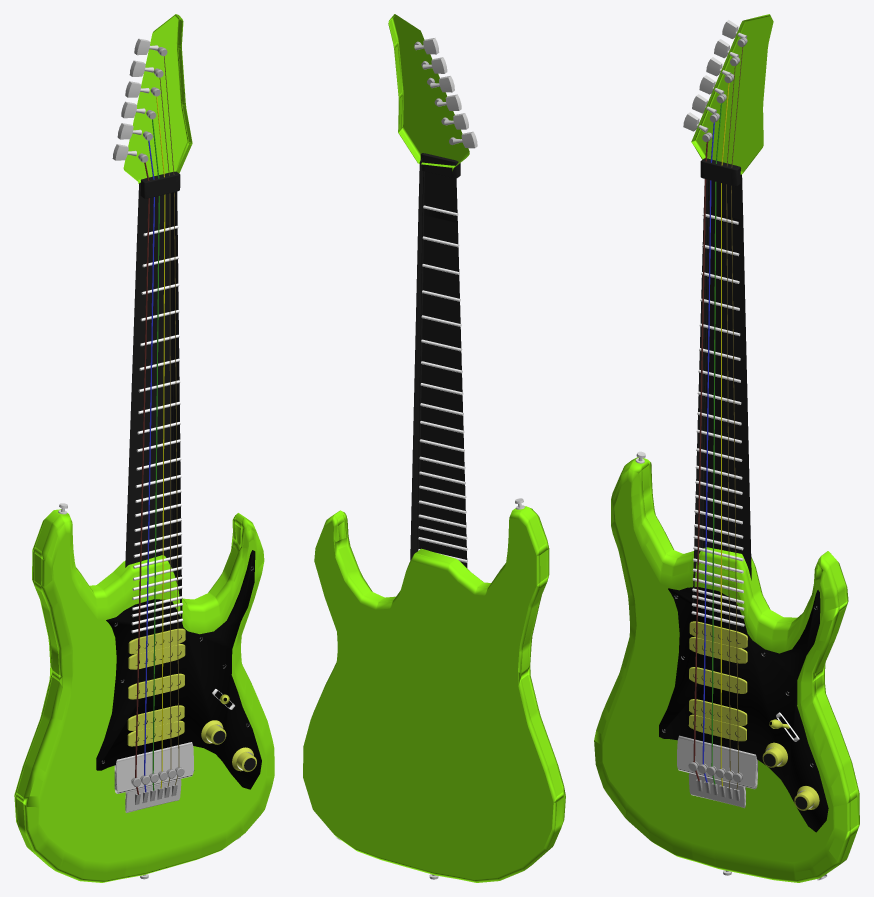
The model's file is ibanez.glb.
3 views of the same model, side by side, from view 1: azimuth 30°, elevation 25°; view 2: azimuth 150°, elevation 25°; view 3: azimuth 330°, elevation 25° (orthographic).
Visible parts, largest first — view 1: Plane.021_Plane.027, Plane.002_Plane.021, Plane.022_Plane.029, Plane.003_Plane.022, Plane.023_Plane.002, Plane.018_Plane.025, Cylinder.015_Cylinder.020, Circle.007_Circle.005, Circle.009, Circle.010, Circle.011, Circle.013 (+8 smaller); view 2: Plane.021_Plane.027, Plane.002_Plane.021, Plane.003_Plane.022, Plane.023_Plane.002, Cylinder.015_Cylinder.020, Cube.013_Cube.024; view 3: Plane.021_Plane.027, Plane.002_Plane.021, Plane.022_Plane.029, Plane.003_Plane.022, Plane.023_Plane.002, Plane.018_Plane.025, Cylinder.015_Cylinder.020, Circle.007_Circle.005, Circle.009, Circle.010, Circle.012, Circle.013 (+8 smaller).
Part boxes in pixels (left/top/right/bottom): Plane.021_Plane.027: left=14, top=509, right=274, bottom=882; Plane.002_Plane.021: left=125, top=179, right=182, bottom=622; Plane.022_Plane.029: left=96, top=550, right=261, bottom=789; Plane.003_Plane.022: left=123, top=14, right=192, bottom=183; Plane.023_Plane.002: left=131, top=225, right=183, bottom=633; Plane.018_Plane.025: left=114, top=742, right=193, bottom=793; Cylinder.015_Cylinder.020: left=112, top=38, right=158, bottom=160; Circle.007_Circle.005: left=135, top=162, right=149, bottom=794; Circle.009: left=144, top=140, right=154, bottom=792; Circle.010: left=152, top=119, right=159, bottom=790; Circle.011: left=156, top=96, right=165, bottom=788; Circle.013: left=164, top=56, right=179, bottom=785; Plane.021_Plane.027: left=303, top=506, right=565, bottom=882; Plane.002_Plane.021: left=410, top=157, right=467, bottom=567; Plane.003_Plane.022: left=388, top=14, right=469, bottom=171; Plane.023_Plane.002: left=418, top=205, right=467, bottom=562; Cylinder.015_Cylinder.020: left=414, top=38, right=477, bottom=148; Cube.013_Cube.024: left=420, top=153, right=460, bottom=178; Plane.021_Plane.027: left=594, top=457, right=859, bottom=882; Plane.002_Plane.021: left=692, top=166, right=751, bottom=615; Plane.022_Plane.029: left=659, top=587, right=828, bottom=832; Plane.003_Plane.022: left=691, top=14, right=773, bottom=174; Plane.023_Plane.002: left=691, top=213, right=744, bottom=626; Plane.018_Plane.025: left=677, top=735, right=757, bottom=789; Cylinder.015_Cylinder.020: left=683, top=20, right=747, bottom=132; Circle.007_Circle.005: left=693, top=141, right=708, bottom=781; Circle.009: left=702, top=122, right=714, bottom=782; Circle.010: left=711, top=103, right=722, bottom=784; Circle.012: left=726, top=66, right=735, bottom=788; Circle.013: left=731, top=47, right=742, bottom=789.
Size of the model in its own units: 1.74 by 5.67 by 0.315.
